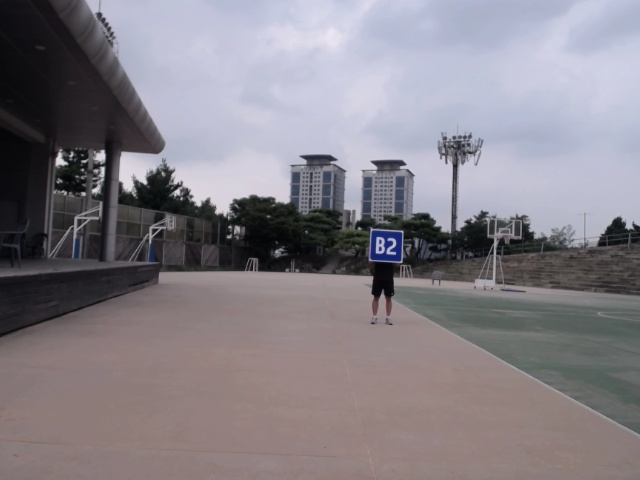delivery_b2: (368, 227, 404, 266)
